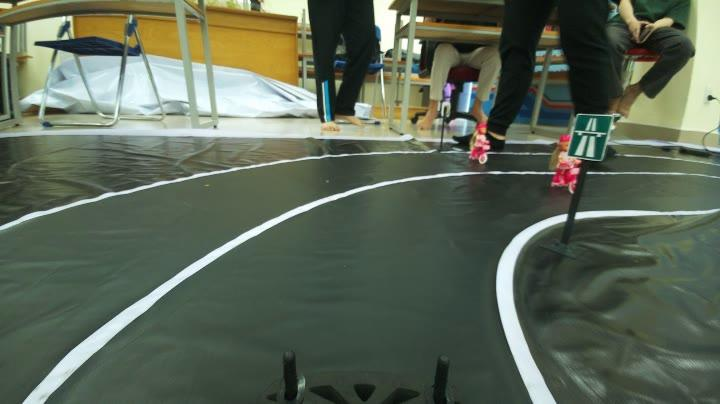highway_entry: (569, 110, 613, 162)
